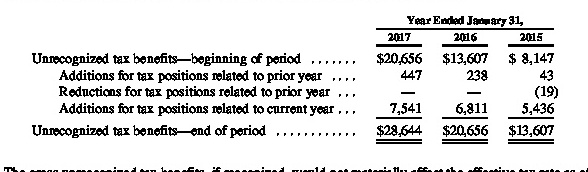table: (0, 0, 588, 172)
